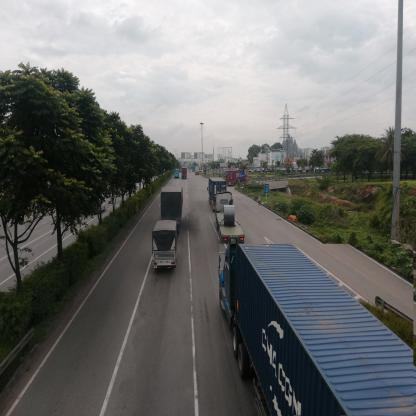container: (220, 245, 415, 416), (217, 195, 242, 245), (209, 178, 225, 195), (228, 172, 249, 184)
truck: (153, 221, 178, 269), (163, 188, 184, 219)
